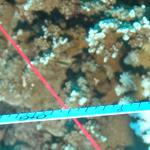alive: (2, 3, 147, 146)
